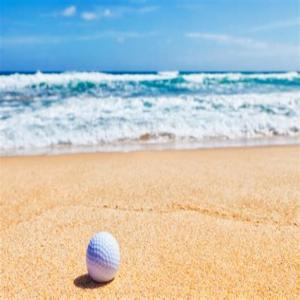Golf: (85, 231, 120, 287)
